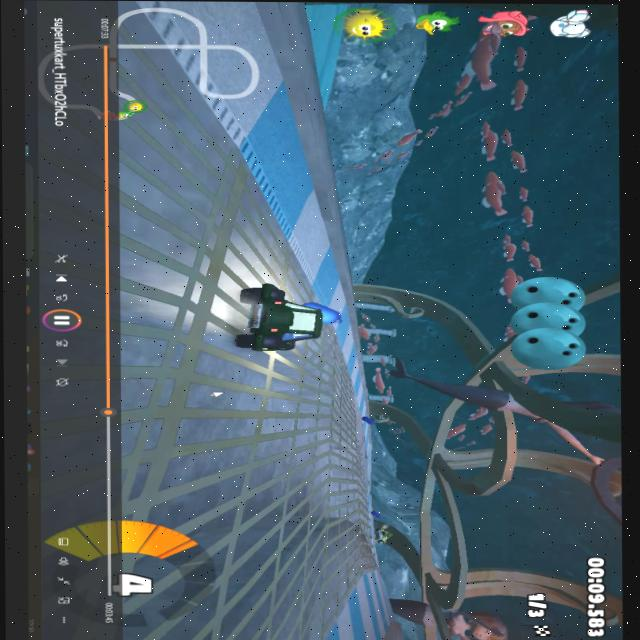nitro: (359, 416, 373, 426)
player_kart: (241, 280, 332, 361)
track: (100, 364, 308, 640), (104, 132, 218, 367), (112, 56, 185, 133), (306, 460, 341, 620), (333, 462, 377, 569), (219, 219, 271, 279), (319, 402, 356, 462), (306, 363, 348, 402), (221, 165, 248, 220), (272, 249, 309, 279), (184, 107, 213, 133), (357, 442, 367, 464)
